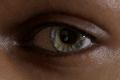eye: (51, 25, 85, 52)
